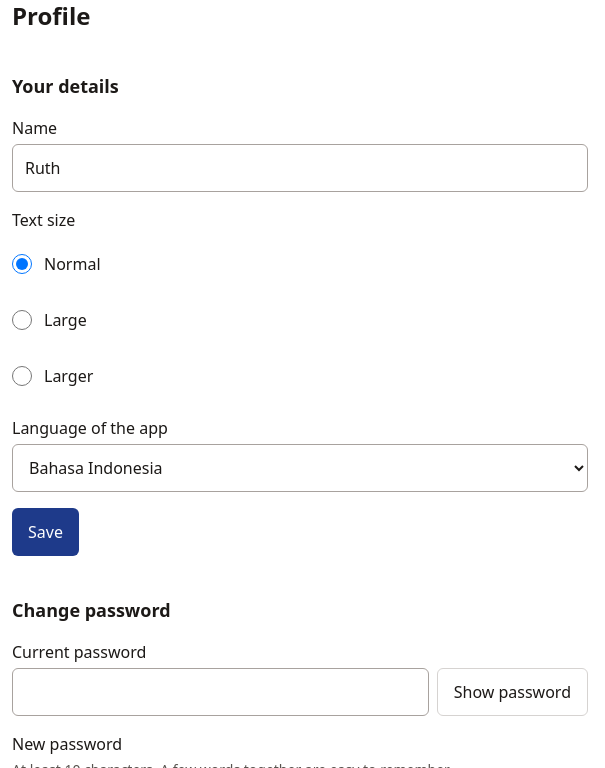
Test: ProfilePage › shows a wrong current password
Type "salah sekali" into the password field labelled "Current password". click: (220, 692)
box: 12,668 -> 429,716
(page scrolled)
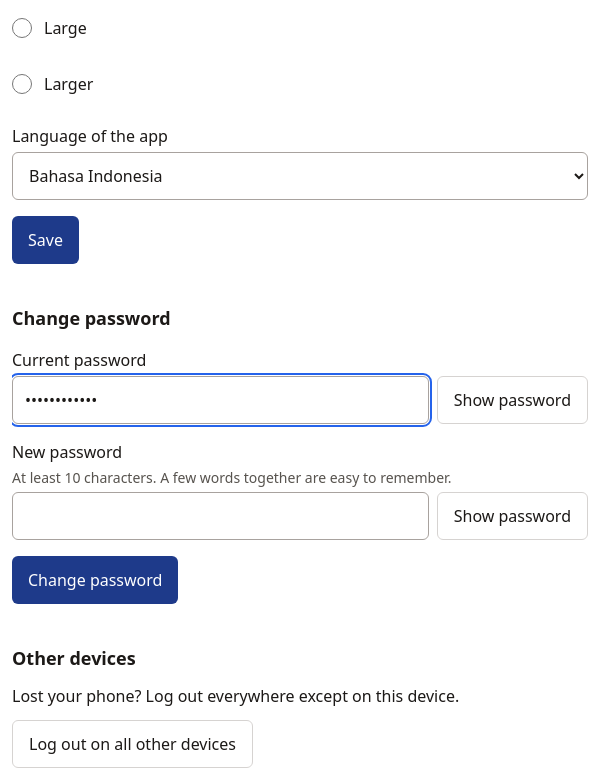
Type "kidung jemaat baru" into the password field labelled "New password". click: (220, 516)
box: 12,492 -> 429,540
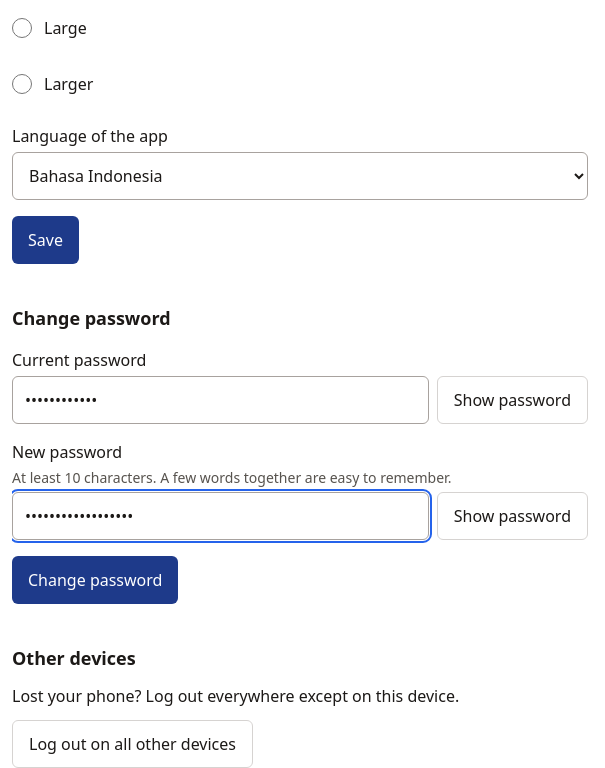
Click the button "Change password". click: (95, 580)
box: 12,556 -> 178,604
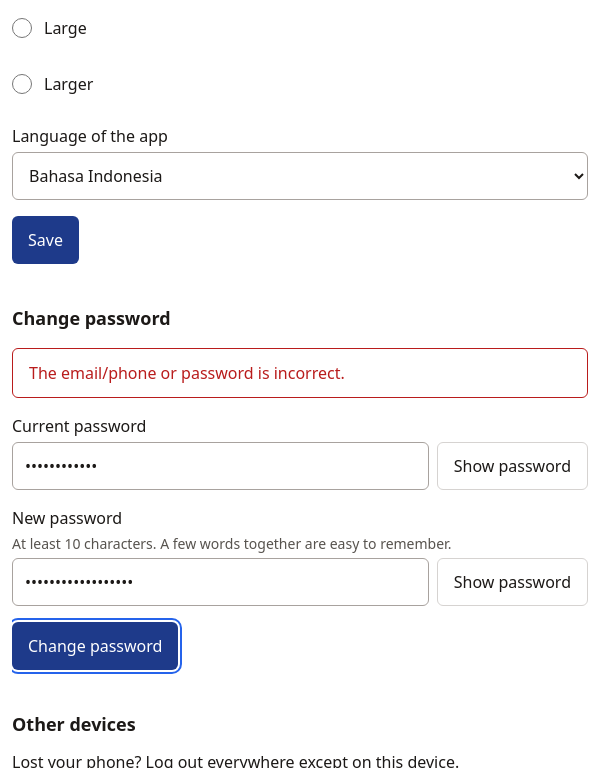
Check: the text "The email/phone or password is incorrect." is shown, box 29,362 -> 345,384
